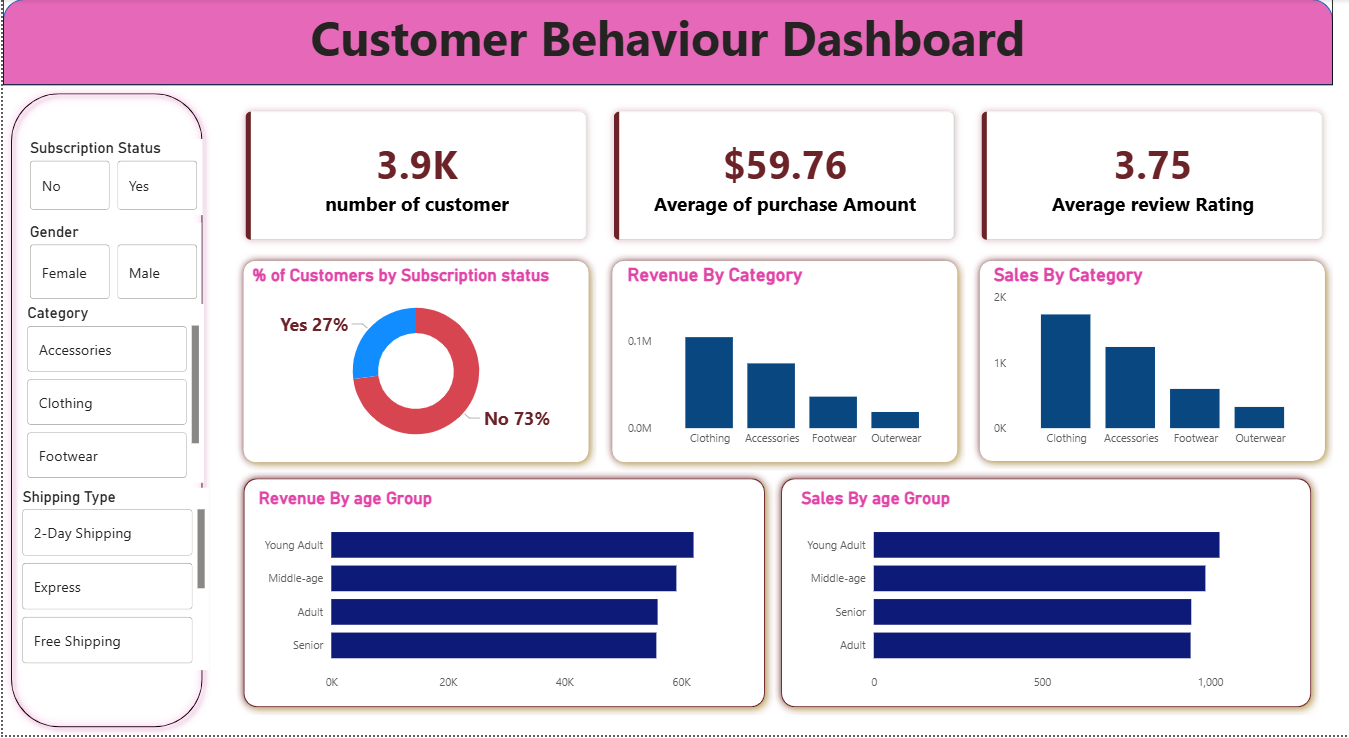

This screenshot's page, from the dashboard's own definition file:
{"tool":"powerbi","page":{"name":"Page 1","canvas":[1500,820],"ordinal":0},"visuals":[{"type":"cardVisual","fields":{"Data":["customer.number of customer","customer.Average of purchase Amount","customer.Average review Rating"]},"box":[242.3,97.5,1257.6,199.2],"z":0},{"type":"shape","box":[0,0,1481.8,96.1],"z":1000},{"type":"textbox","box":[0,0,1481.8,96.1],"z":2000},{"type":"shape","box":[259,282.7,402.5,242.3],"z":3000},{"type":"donutChart","title":"% of Customers by Subscription status","fields":{"Category":["customer.subscription_status"],"Y":["CountNonNull(customer.customer_id)"]},"box":[273,296.6,374.6,214.5],"z":4000},{"type":"shape","box":[669.9,282.7,402.5,242.3],"z":5000},{"type":"shape","box":[1079.3,282.7,402.5,240.9],"z":6000},{"type":"clusteredColumnChart","title":"Revenue By Category","fields":{"Y":["Sum(customer.purchase_amount)"],"Category":["customer.category"]},"box":[690.8,295.2,364.9,213.1],"z":7000},{"type":"clusteredColumnChart","title":"Sales By Category","fields":{"Category":["customer.category"],"Y":["CountNonNull(customer.customer_id)"]},"box":[1098.8,295.2,364.9,213.1],"z":8000},{"type":"shape","box":[0,96.1,231.2,724.2],"z":9000},{"type":"advancedSlicerVisual","fields":{"Values":["customer.subscription_status"]},"box":[25.1,156,197.8,85],"z":10000},{"type":"advancedSlicerVisual","fields":{"Values":["customer.gender"]},"box":[25.1,249.3,196.4,90.5],"z":11000},{"type":"advancedSlicerVisual","fields":{"Values":["customer.category"]},"box":[22.3,339.8,201.9,199.2],"z":12000},{"type":"advancedSlicerVisual","fields":{"Values":["customer.shipping_type"]},"box":[16.7,544.5,213.1,203.3],"z":13000},{"type":"shape","box":[259,525,598.8,273],"z":14000},{"type":"clusteredBarChart","title":"Revenue By age Group","fields":{"Y":["Sum(customer.purchase_amount)"],"Category":["customer.age_group"]},"box":[279.9,544.5,555.7,235.4],"z":15000},{"type":"shape","box":[857.9,525,608.6,273],"z":16000},{"type":"clusteredBarChart","title":"Sales By age Group","fields":{"Category":["customer.age_group"],"Y":["CountNonNull(customer.customer_id)"]},"box":[884.3,544.5,555.7,235.4],"z":17000}]}

Visuals, with their boxes in screenshot pixels (x1, y1, x2, y2), scaled from the page's 1500x820 canvas onto the 1349x738 screenshot:
cardVisual - customer.number of customer x customer.Average of purchase Amount: x1=218, y1=88, x2=1348, y2=267
shape: x1=0, y1=0, x2=1333, y2=86
textbox: x1=0, y1=0, x2=1333, y2=86
shape: x1=233, y1=254, x2=595, y2=472
"% of Customers by Subscription status" donutChart: x1=246, y1=267, x2=582, y2=460
shape: x1=602, y1=254, x2=964, y2=472
shape: x1=971, y1=254, x2=1333, y2=471
"Revenue By Category" clusteredColumnChart: x1=621, y1=266, x2=949, y2=457
"Sales By Category" clusteredColumnChart: x1=988, y1=266, x2=1316, y2=457
shape: x1=0, y1=86, x2=208, y2=737
advancedSlicerVisual - customer.subscription_status: x1=23, y1=140, x2=200, y2=217
advancedSlicerVisual - customer.gender: x1=23, y1=224, x2=199, y2=306
advancedSlicerVisual - customer.category: x1=20, y1=306, x2=202, y2=485
advancedSlicerVisual - customer.shipping_type: x1=15, y1=490, x2=207, y2=673
shape: x1=233, y1=472, x2=771, y2=718
"Revenue By age Group" clusteredBarChart: x1=252, y1=490, x2=751, y2=702
shape: x1=772, y1=472, x2=1319, y2=718
"Sales By age Group" clusteredBarChart: x1=795, y1=490, x2=1295, y2=702
